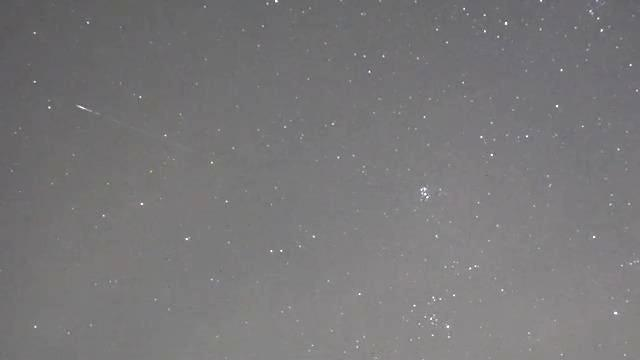meteorite: (51, 101, 126, 118)
